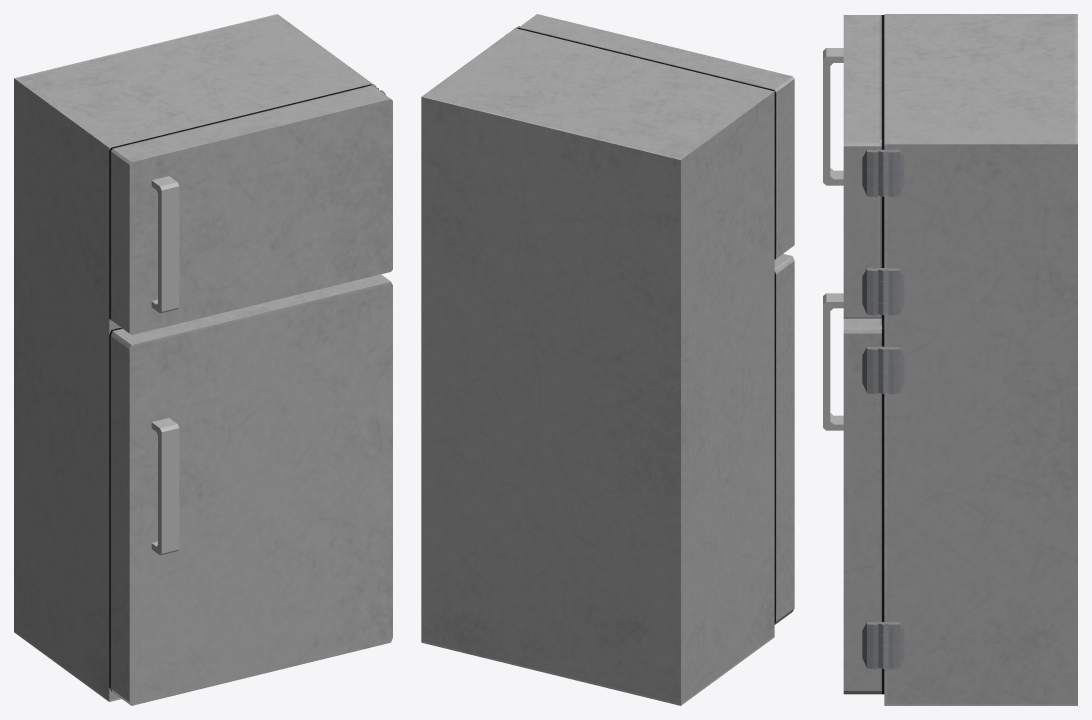
Rendered from fridge.glb.
3 views of the same model, side by side, from view 1: azimuth 30°, elevation 25°; view 2: azimuth 150°, elevation 25°; view 3: azimuth 270°, elevation 25° (orthographic). The views are drawn at different scales.
Parts seen in each view (by area): view 1: bottom door, divider, hinge clamp door.001; view 2: divider, hinge clamp door.001, bottom door; view 3: divider, bottom door, hinge clamp door.001, hinge clamp, hinge clamp door, hinge, hinge.001.
Part boxes in pixels (x1,y1,x2,y2): bottom door: (109,274,392,705); divider: (14,14,372,701); hinge clamp door.001: (109,84,392,335); divider: (421,28,774,705); hinge clamp door.001: (514,14,794,259); bottom door: (774,254,794,624); divider: (884,14,1077,705); bottom door: (823,293,884,694); hinge clamp door.001: (823,15,884,318); hinge clamp: (888,149,904,669); hinge clamp door: (862,346,878,669); hinge: (878,149,888,315); hinge.001: (878,346,888,668).
Bounding box in the file's own units: 1.01 × 1.99 × 0.8195.
Materials: 8 (8 with a texture image).
